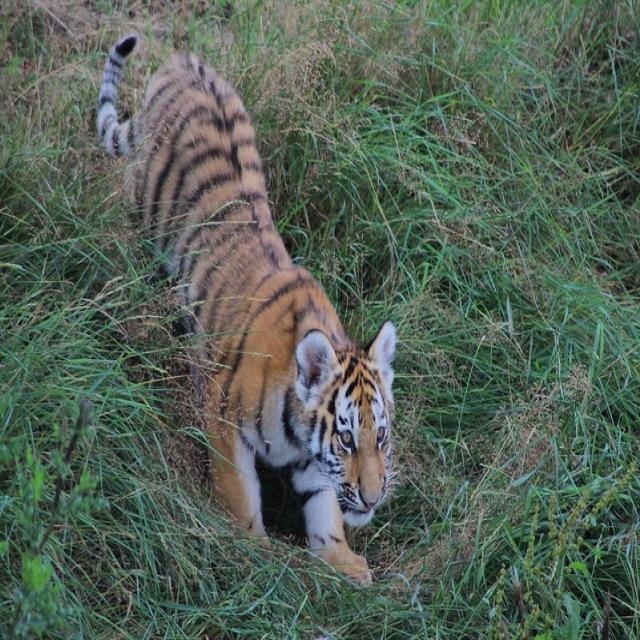Tiger: (95, 36, 395, 586)
